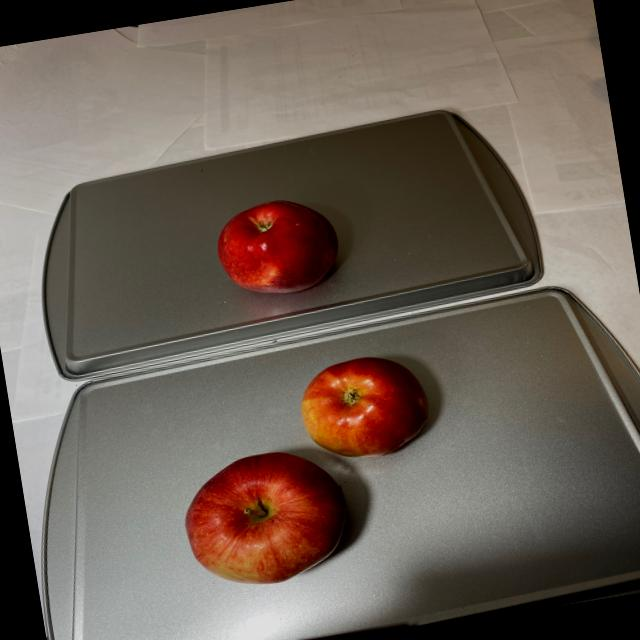apple: (162, 349, 452, 596), (212, 192, 346, 306)
